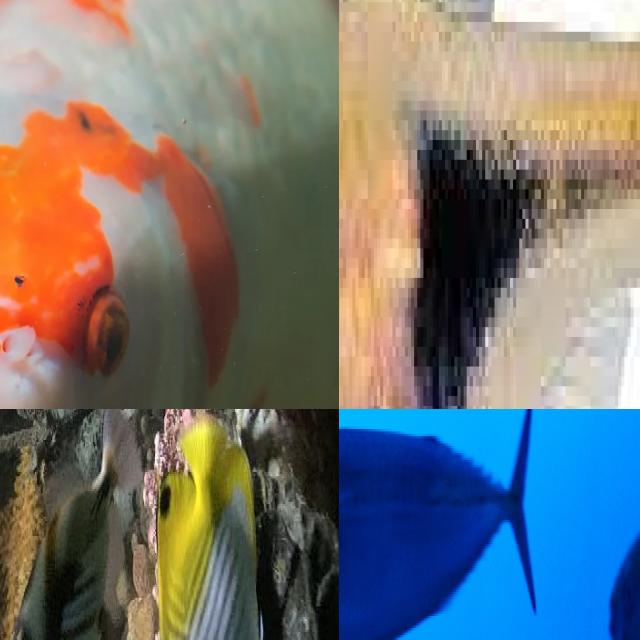fish: (0, 0, 339, 409), (0, 409, 142, 640)
